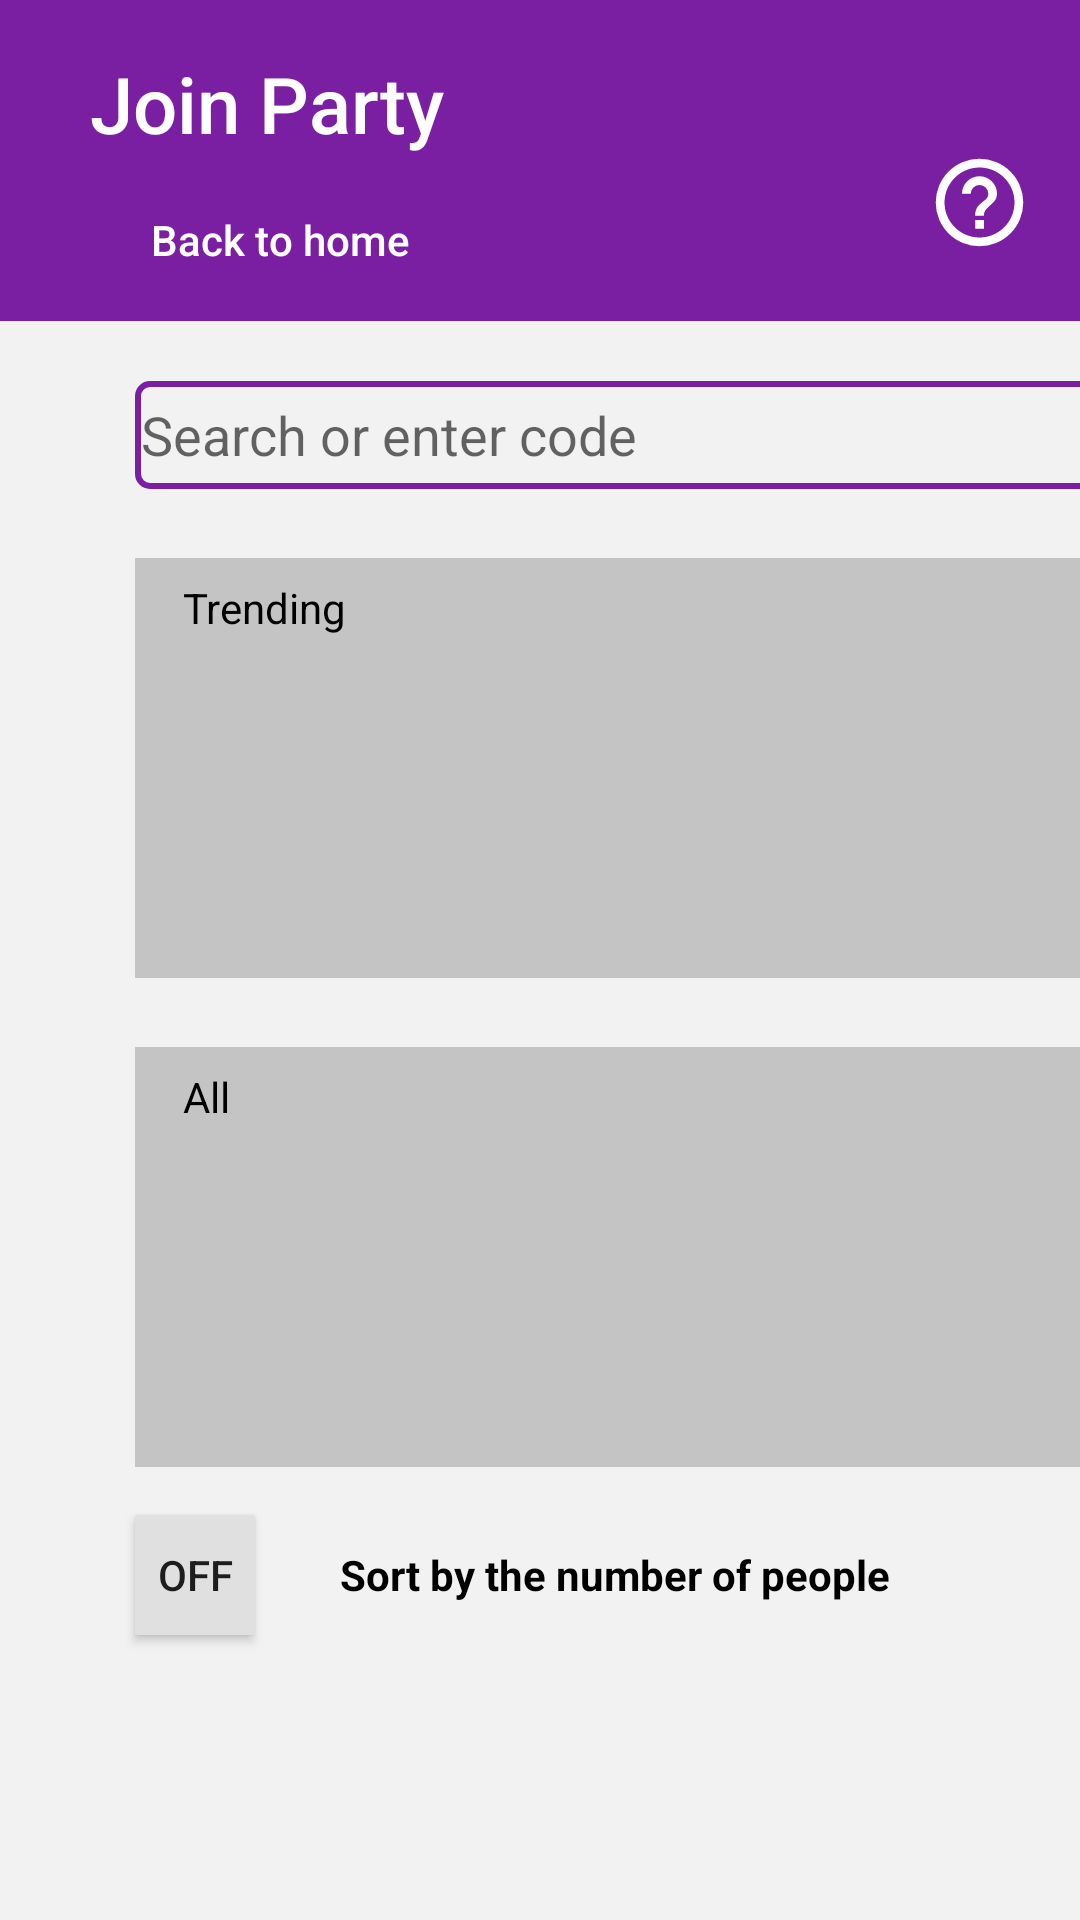

Point at icon controls on the screen. Image size 1080px×1920px, points as point (x, y).
help: point (979, 202)
